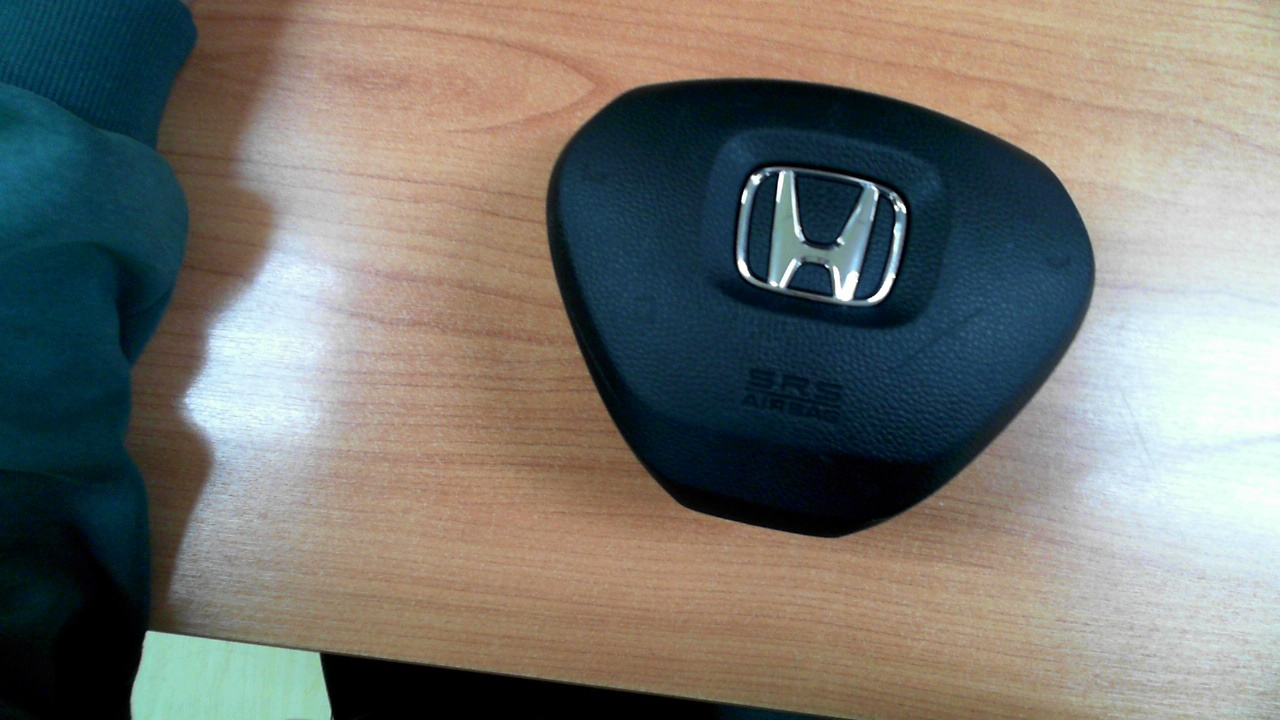Airbag: (545, 76, 1096, 539)
Honda: (735, 165, 908, 306)
